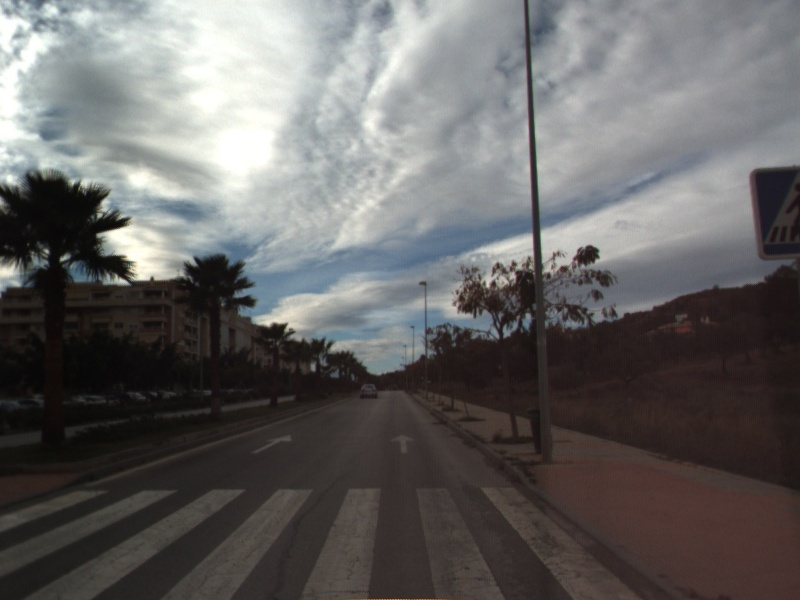STRAIGHT: (249, 432, 294, 455), (388, 432, 417, 455)
